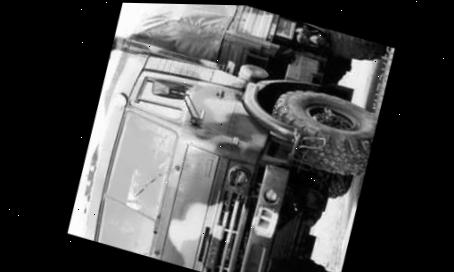truck: (60, 1, 401, 272)
